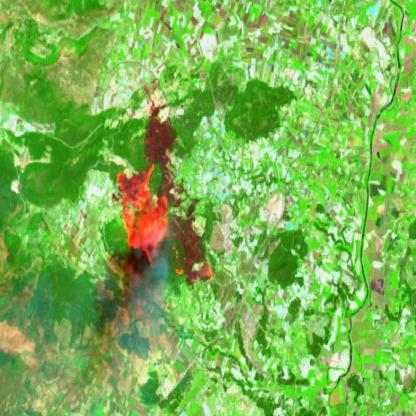fire: (109, 159, 175, 276)
